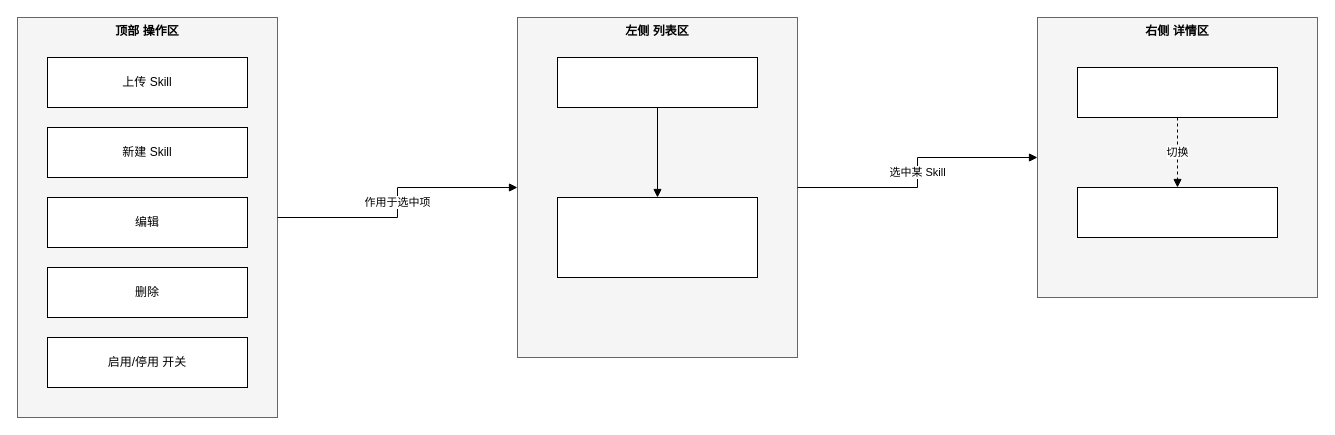
Some shapes in this 1335 by 435 pixel diagram are drawn without their labels. The shapes that lost their labels are listed below. From the top down, each one's centre as x and y in pixels, then its label:
At (x=657, y=82): "搜索框".
At (x=1177, y=92): "Preview 渲染视图".
At (x=1177, y=212): "Source 原文视图".
At (x=657, y=237): "本租户自定义技能列表 名称·描述·启停状态 无分组".
